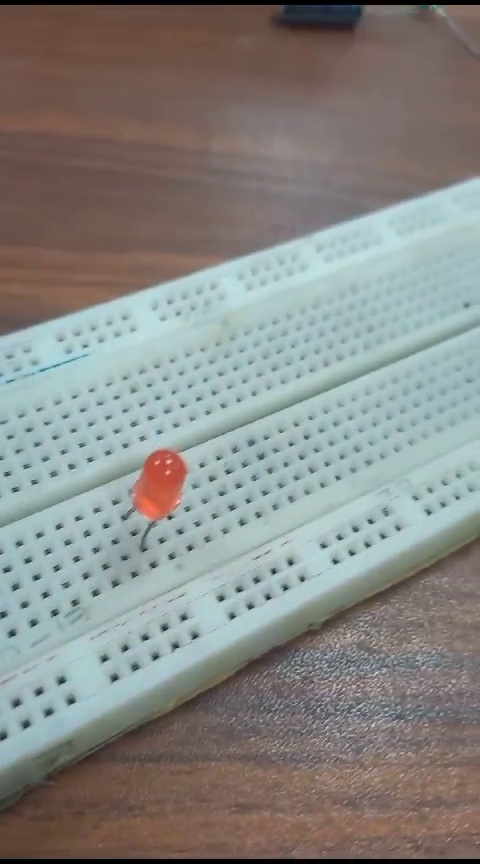LED: (130, 443, 184, 555)
